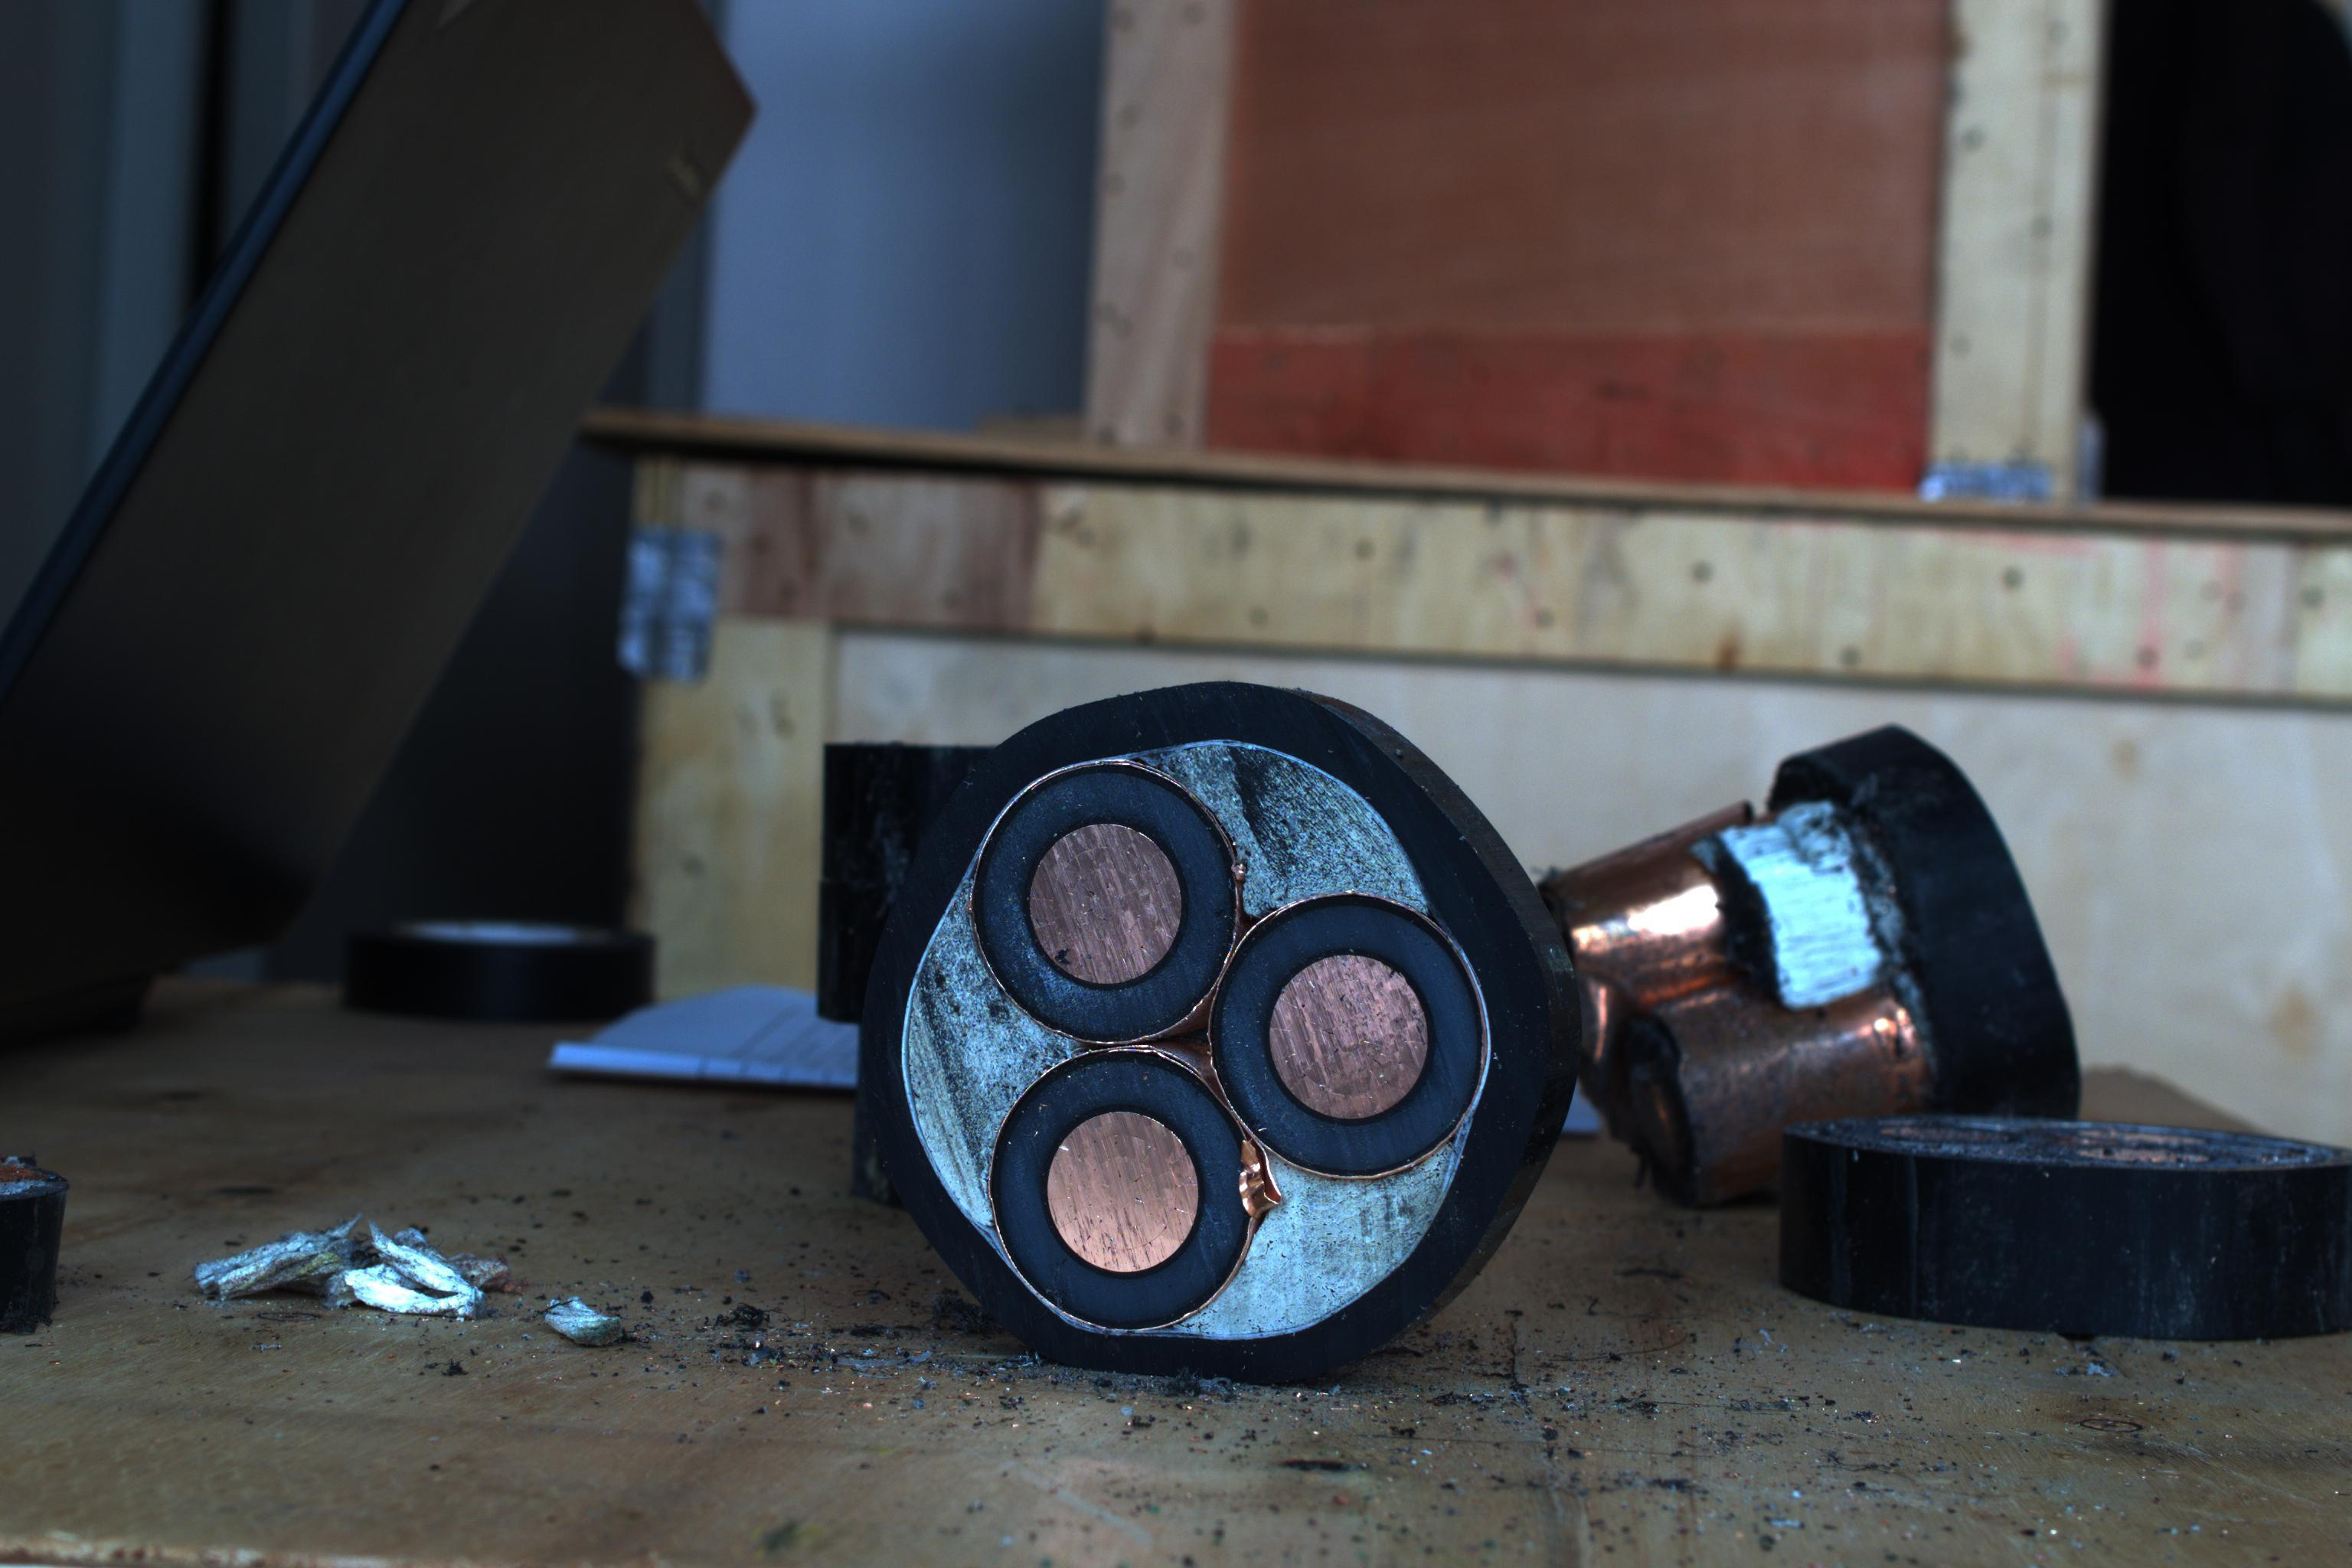ZA_YJV_8.7_10kV_3x240: (898, 702, 1515, 1377)
